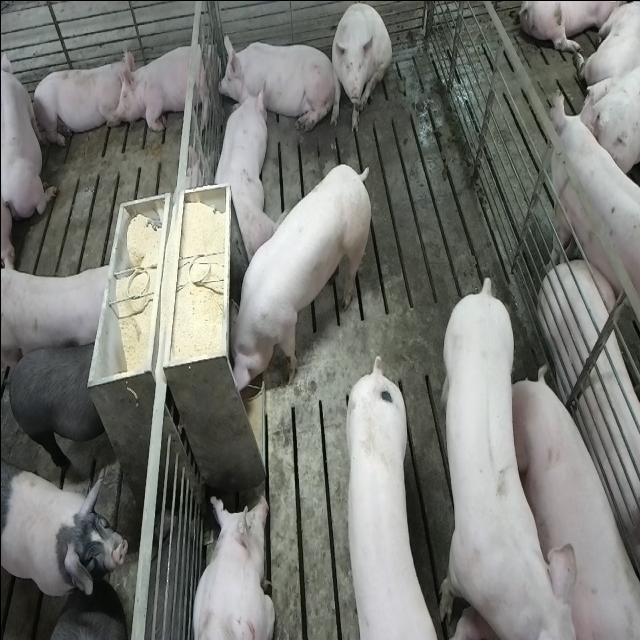Feeding: (230, 162, 376, 394)
Lateral_lying: (515, 370, 640, 640)
Sitting: (329, 2, 390, 136)
Standing: (433, 274, 572, 636), (340, 358, 433, 640), (550, 92, 640, 336), (2, 467, 128, 602), (2, 336, 110, 472), (3, 256, 118, 369), (32, 610, 126, 640)
Sternal_lying: (190, 491, 274, 640), (209, 82, 271, 264), (219, 32, 329, 132), (2, 34, 56, 221), (29, 52, 130, 150), (116, 38, 214, 136)
